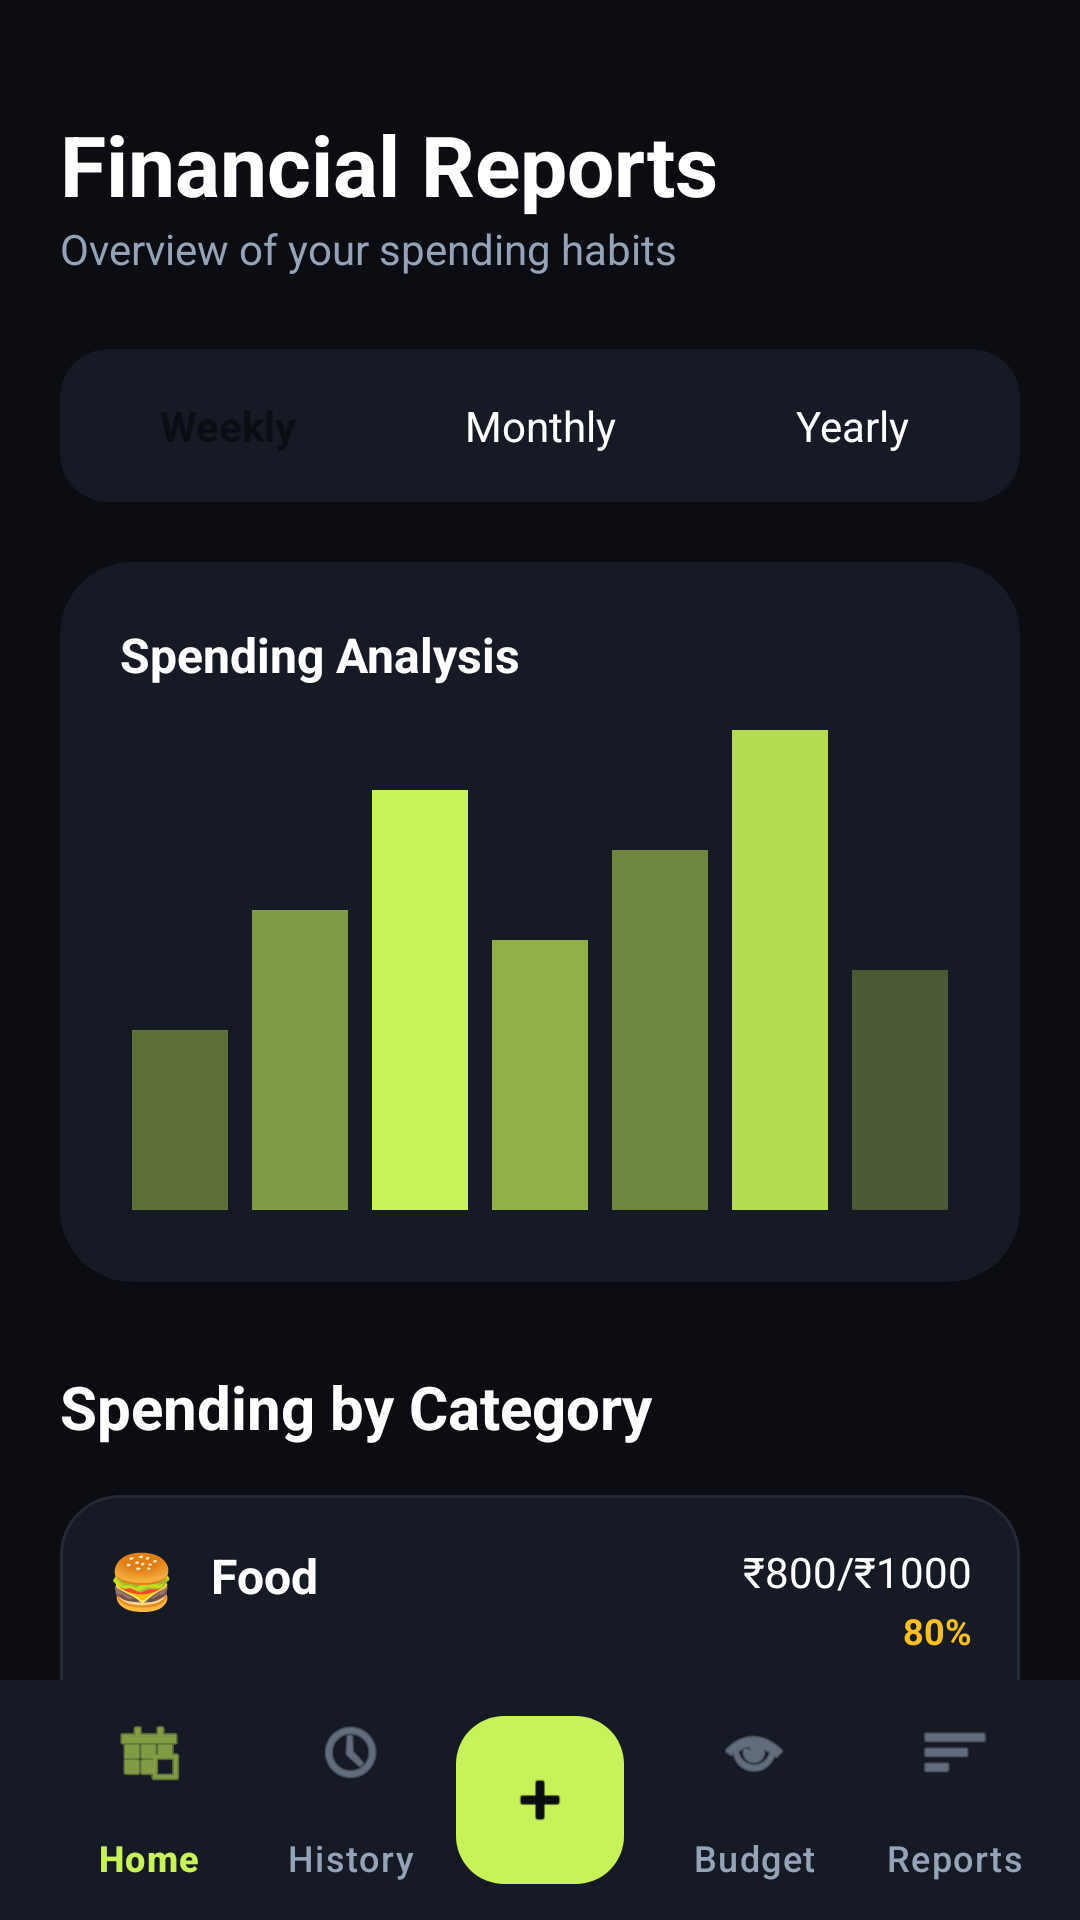

Locate icon controls on the screen. Image size 1080px x 1920px, boxes as (x1, y1, x2, y2).
add: (456, 1752, 624, 1884)
